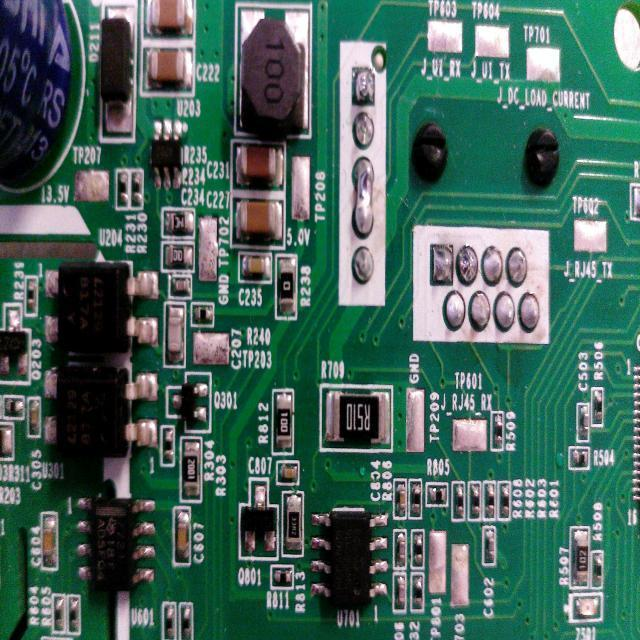Soldering shorted: (348, 154, 381, 239)
